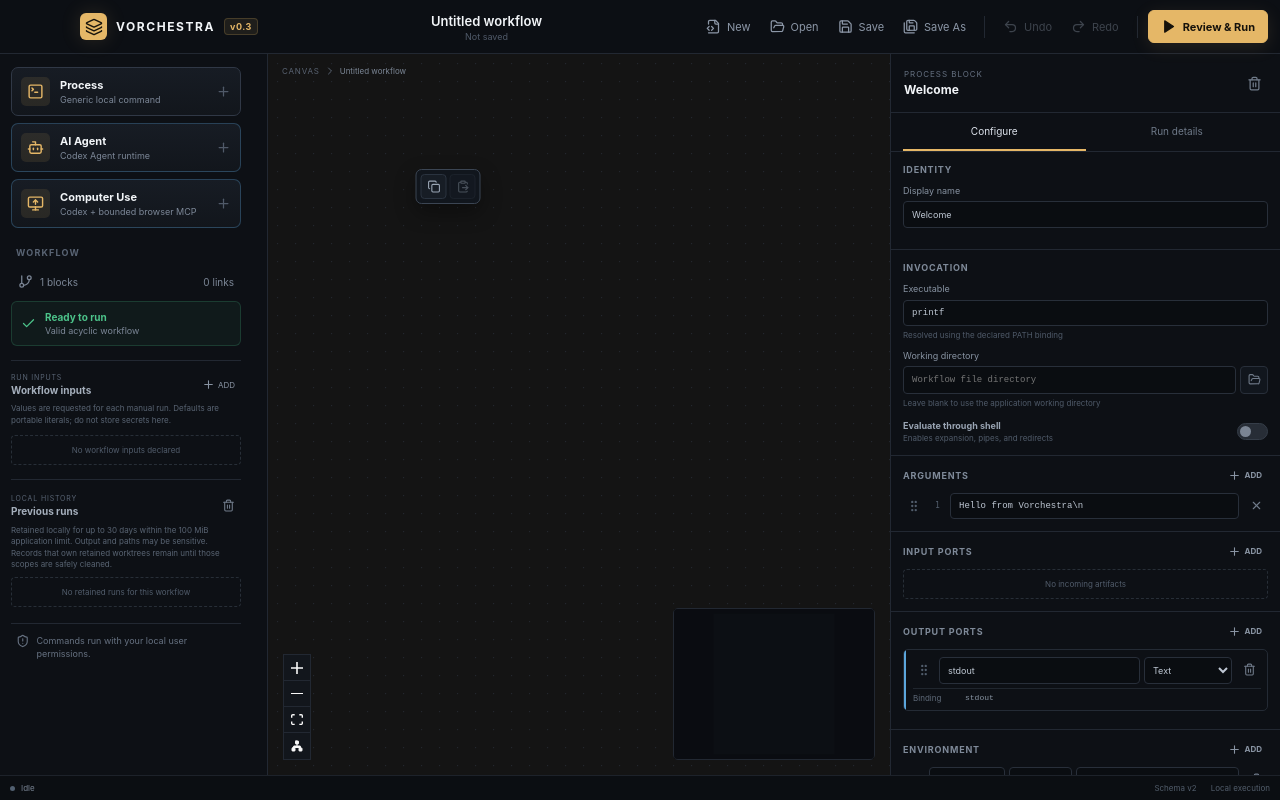
Test: block configuration ordering › exposes the AI Agent editor and compiles visible Codex authority
This screenshot has width=1280, height=800.
Step 1. Click the button with aria-label "Add AI Agent" → [126, 148], box [11,123,241,172]
(page scrolled)
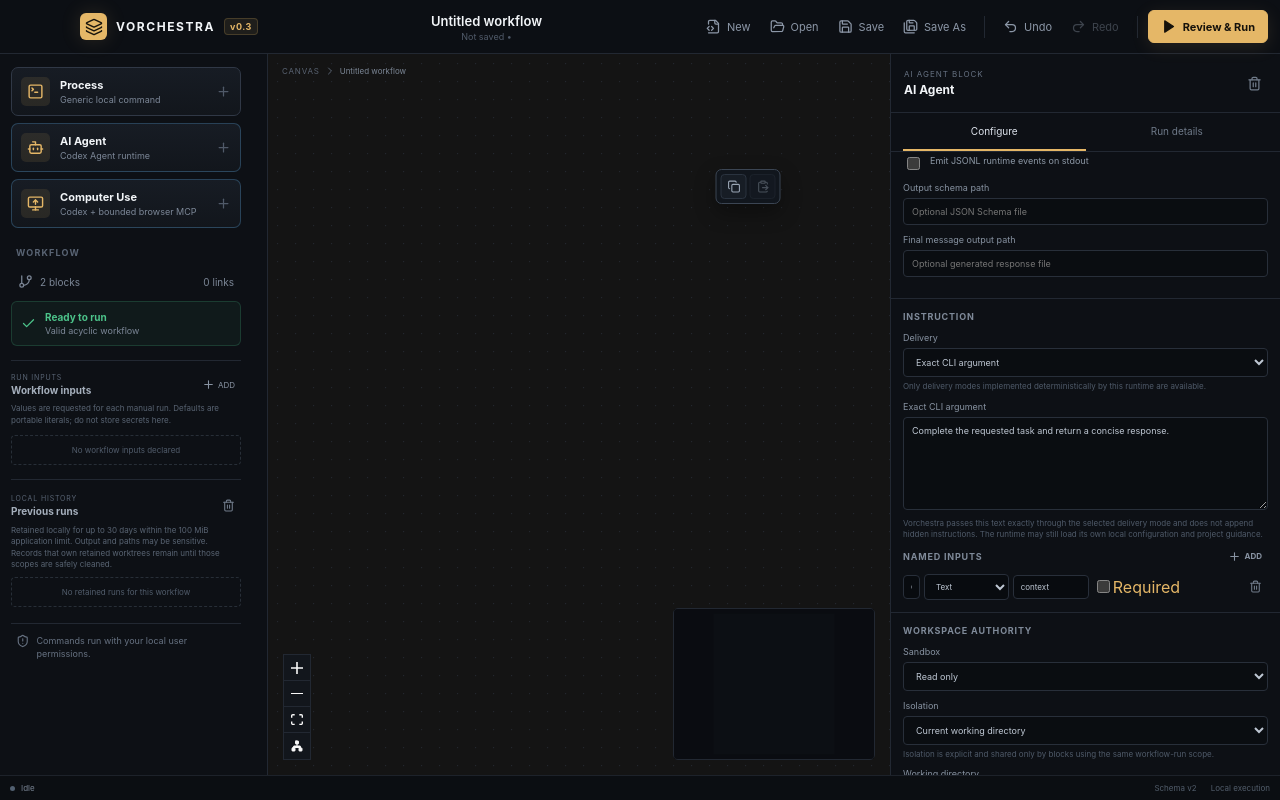
Step 2. Replace the text in the text box named "Agent instruction" with "Create release-notes.md." → [1086, 464], box [903,417,1268,510]
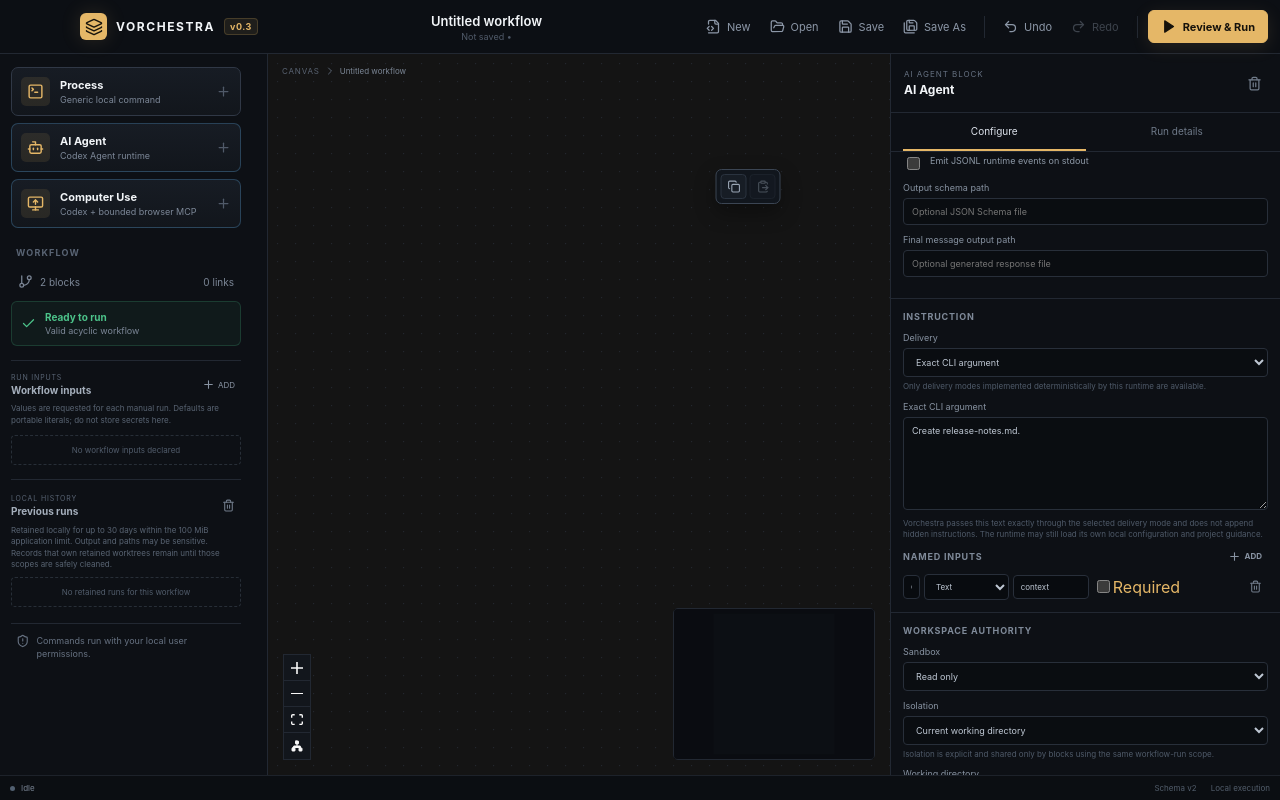
Step 3. Select "Workspace write" in the dropdown named "Agent authority" → [1086, 676], box [903,662,1268,691]
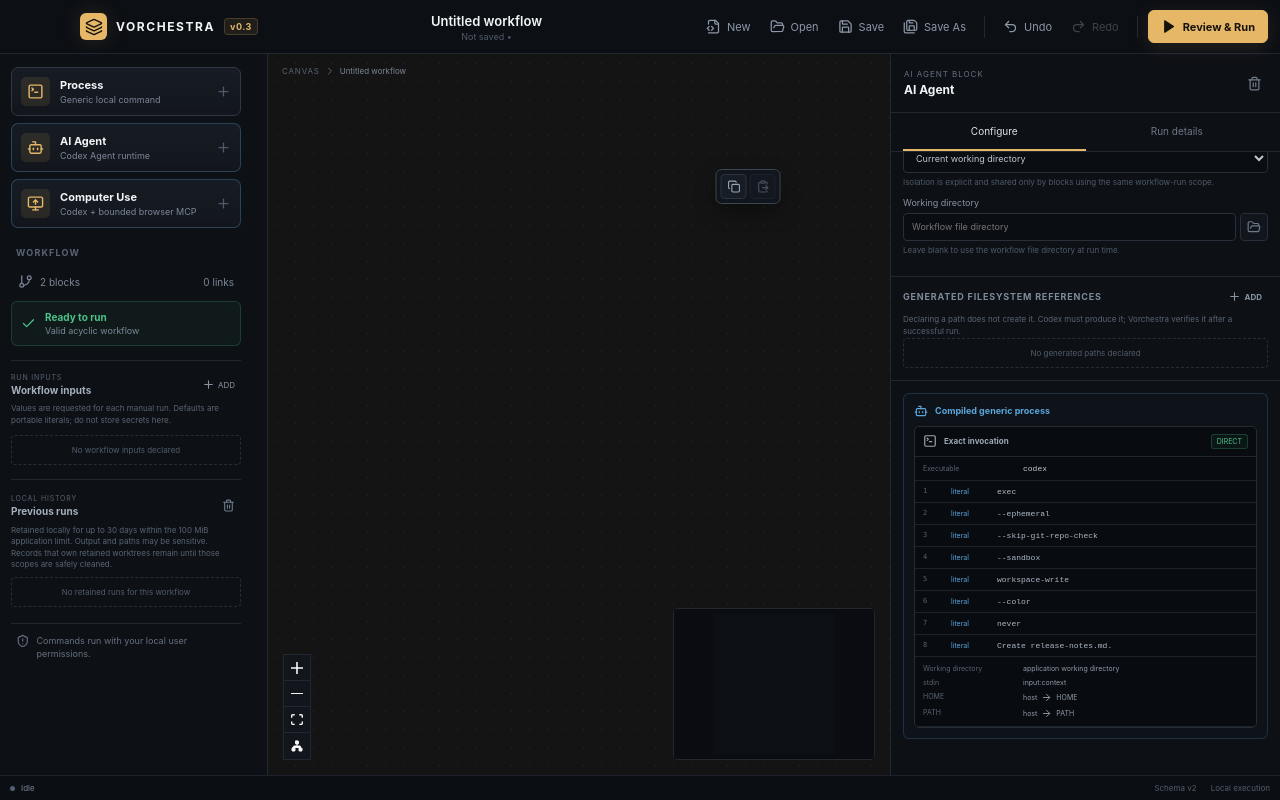
Expected: the element named "Exact invocation preview" shows "workspace-write", [997,574,1069,584]
Expected: the element named "Exact invocation preview" shows "Create release-notes.md.", [997,640,1112,650]
Expected: the element named "Exact invocation preview" shows "DIRECT", [1217,436,1242,446]
